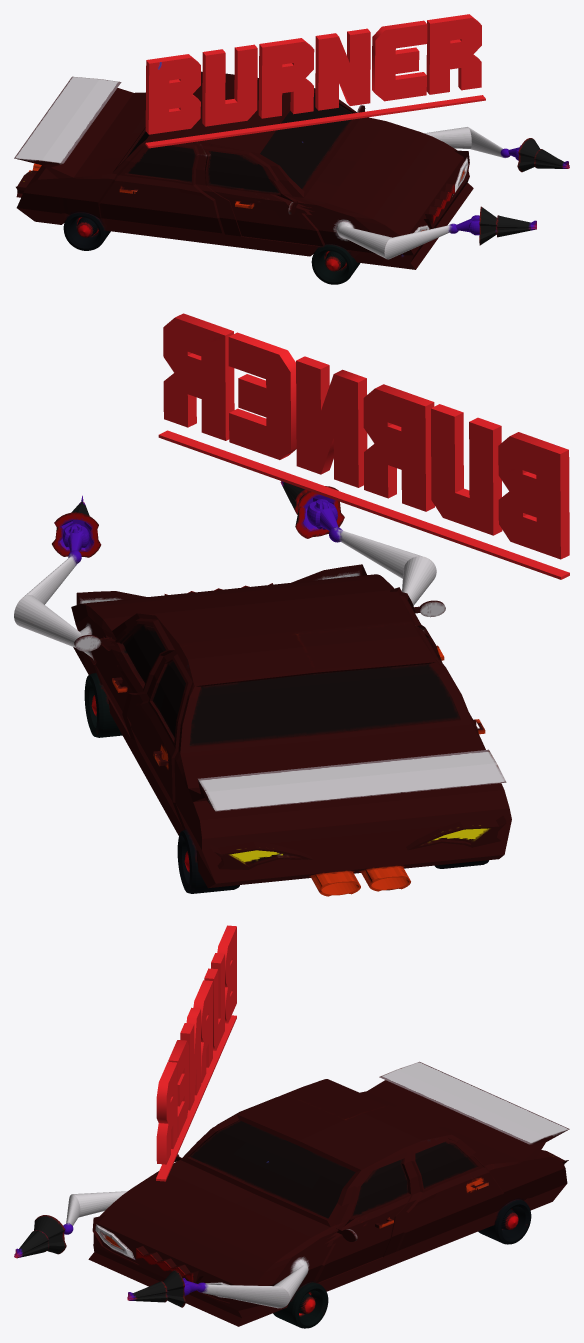
The model's file is BURNER MENU.fbx.
The picture shows the model from 3 angles, top to bottom: view 1: azimuth 30°, elevation 25°; view 2: azimuth 150°, elevation 25°; view 3: azimuth 270°, elevation 25°; orthographic projection. The views are drawn at different scales.
Parts seen in each view (by area): view 1: mesh_id29, mesh_id28, mesh_id32, mesh_id34, mesh_id37, mesh_id39, mesh_id36, mesh_id38, mesh_id35, mesh_id26, mesh_id33, mesh_id21 (+4 smaller); view 2: mesh_id29, mesh_id28, mesh_id32, mesh_id34, mesh_id37, mesh_id35, mesh_id39, mesh_id36, mesh_id38, mesh_id26, mesh_id33, mesh_id25 (+7 smaller); view 3: mesh_id29, mesh_id28, mesh_id32, mesh_id26, mesh_id39, mesh_id11, mesh_id20, mesh_id23, mesh_id33, mesh_id37, mesh_id36, mesh_id34 (+3 smaller).
Boxes of the visible parts, x1,y1,x2,y2 form: mesh_id29: [14, 71, 473, 269]; mesh_id28: [127, 93, 352, 193]; mesh_id32: [14, 76, 468, 232]; mesh_id34: [145, 54, 200, 134]; mesh_id37: [315, 28, 370, 110]; mesh_id39: [426, 14, 481, 94]; mesh_id36: [258, 38, 314, 118]; mesh_id38: [372, 20, 427, 101]; mesh_id35: [202, 44, 257, 126]; mesh_id26: [336, 127, 505, 259]; mesh_id33: [145, 95, 485, 148]; mesh_id21: [311, 244, 360, 284]; mesh_id29: [71, 564, 511, 891]; mesh_id28: [120, 624, 459, 861]; mesh_id32: [75, 573, 506, 811]; mesh_id34: [498, 432, 569, 559]; mesh_id37: [296, 356, 367, 487]; mesh_id35: [431, 404, 502, 535]; mesh_id39: [163, 313, 234, 440]; mesh_id36: [363, 384, 434, 511]; mesh_id38: [228, 332, 296, 459]; mesh_id26: [14, 530, 436, 658]; mesh_id33: [158, 430, 569, 579]; mesh_id25: [112, 648, 485, 896]; mesh_id29: [88, 1079, 568, 1326]; mesh_id28: [190, 1120, 476, 1218]; mesh_id32: [95, 1061, 569, 1298]; mesh_id26: [66, 1191, 308, 1308]; mesh_id39: [156, 1062, 177, 1164]; mesh_id11: [273, 1282, 328, 1328]; mesh_id20: [19, 1215, 66, 1256]; mesh_id23: [478, 1199, 531, 1244]; mesh_id33: [156, 1015, 236, 1181]; mesh_id37: [180, 1007, 201, 1110]; mesh_id36: [193, 980, 212, 1082]; mesh_id34: [217, 925, 236, 1023].
Size of the model in its own units: 934 by 493 by 982.
2 materials, 2 textured.
